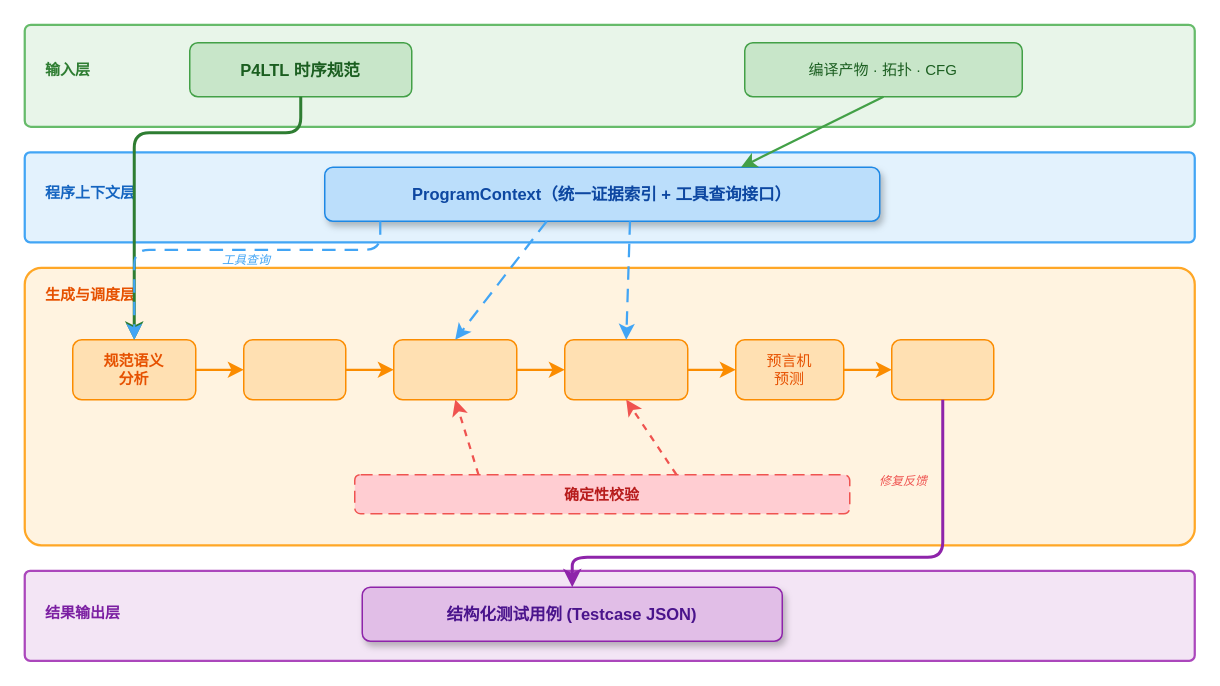
Some shapes in this 1220 by 686 pixel diagram are drawn without their labels. The shapes that lost their labels are listed below. From the top down, each one's centre as x and y in pixels, then its label:
point (294, 369): 契约 审查
point (454, 369): 报文序列 构造
point (625, 369): 控制面 规则生成
point (942, 369): 输出 封装
